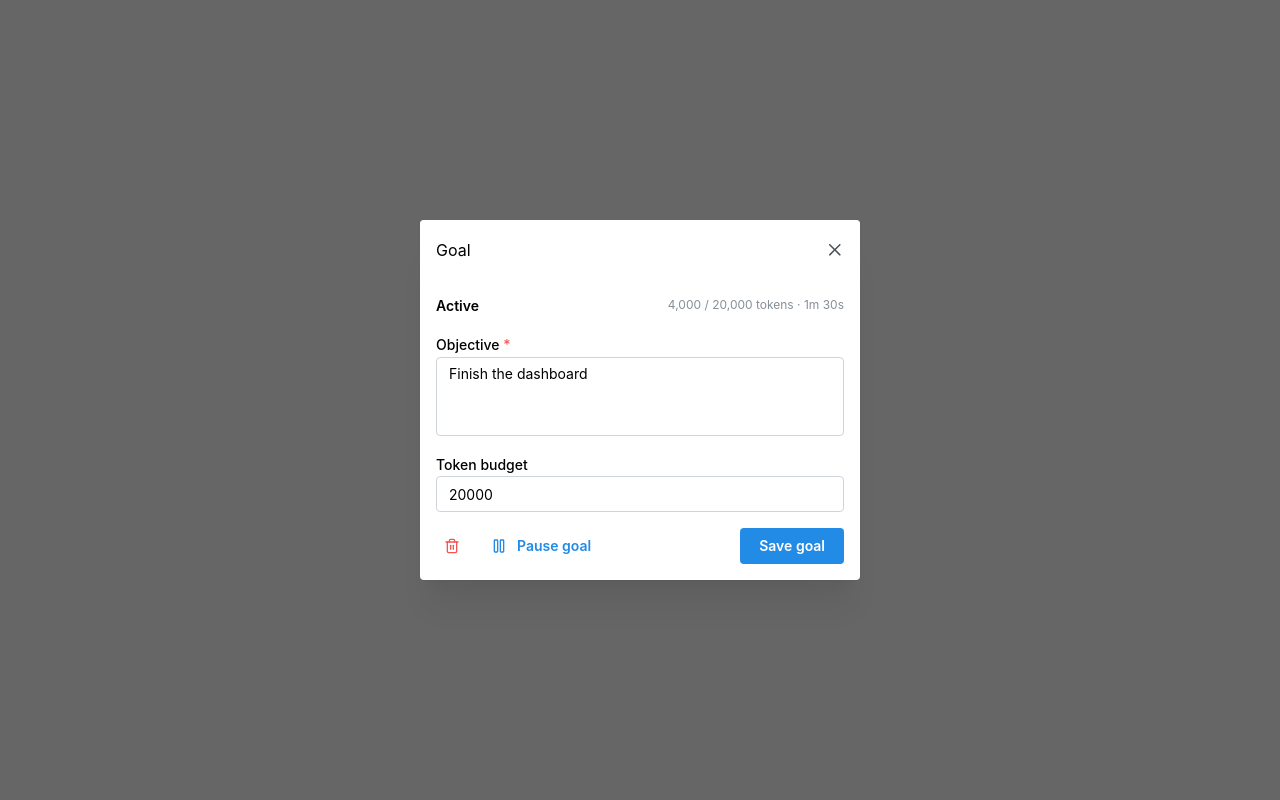
GoalModal › keeps failed edits open and preserves the draft
This screenshot has width=1280, height=800.
Replace the text in the text box labelled "Objective" with "Keep this draft" at (640, 396), box [436,357,844,436]
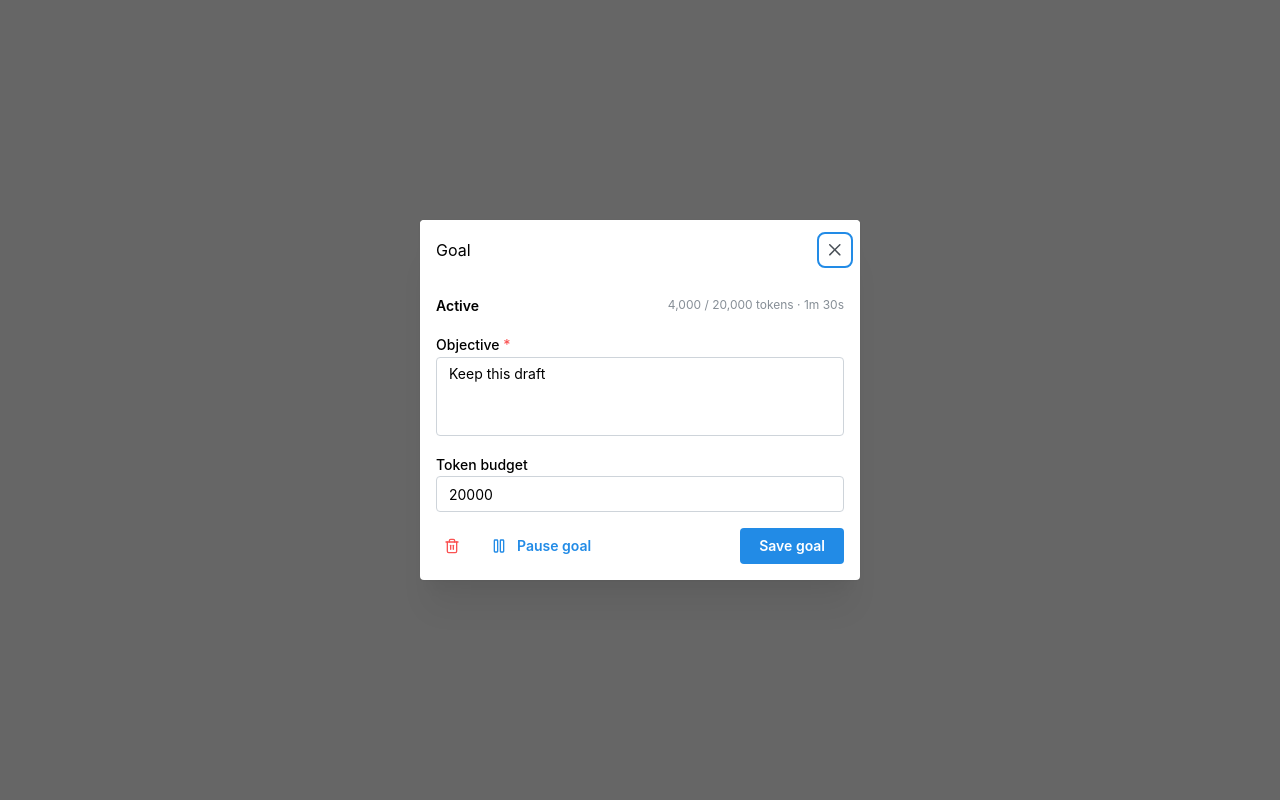
Click the button "Save goal".
click(792, 546)  # box [740,528,844,564]
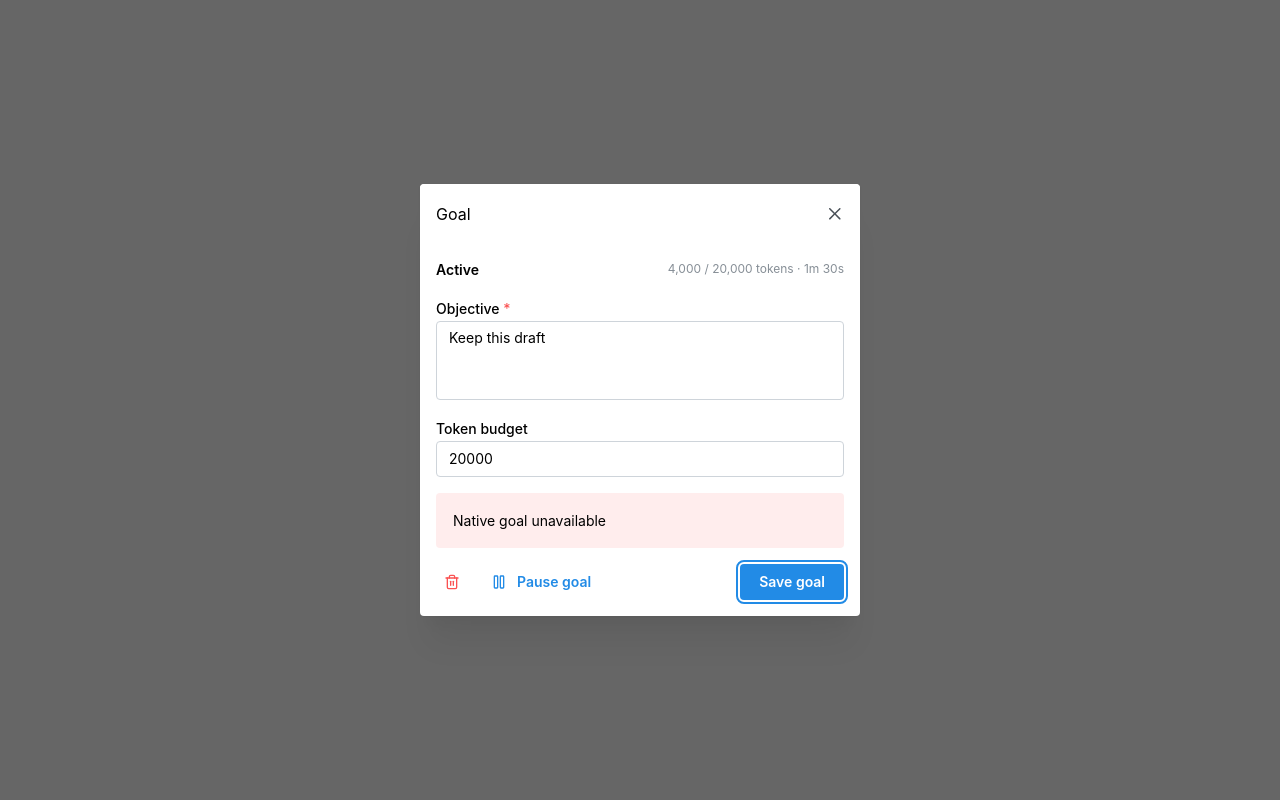
expect the message reads "Native goal unavailable": met, box [453,512,606,529]
